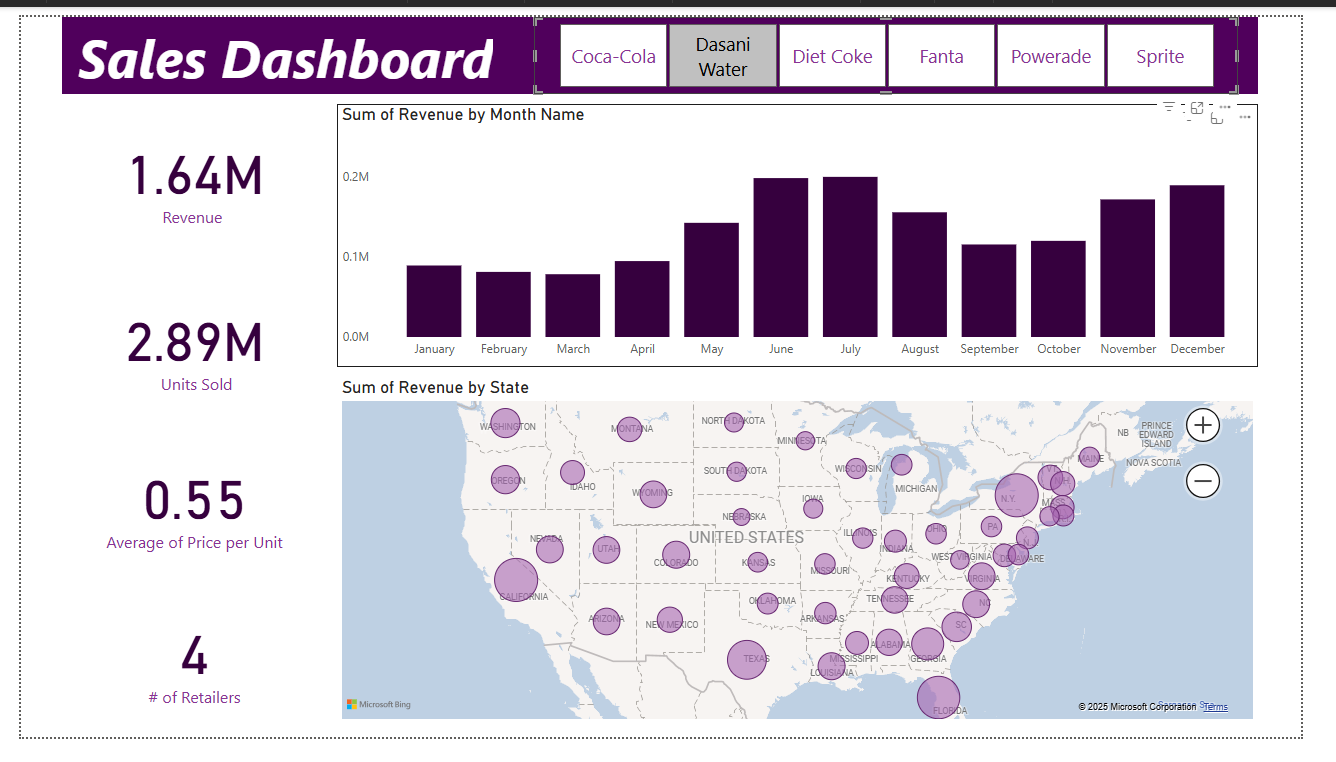

Layout of this report page (visuals, bound fields, positions):
{"tool":"powerbi","page":{"name":"Page 1","canvas":[1280,720],"ordinal":0},"visuals":[{"type":"shape","box":[41,0,1196,77],"z":0},{"type":"card","fields":{"Values":["Sum(Data.Revenue )"]},"box":[31,87,285,148],"z":1},{"type":"card","fields":{"Values":["Avg(Data.Price per Unit)"]},"box":[31,420.3,285,132],"z":2},{"type":"card","fields":{"Values":["Sum(Data.Units Sold)"]},"box":[31,257.7,285,140],"z":3},{"type":"columnChart","fields":{"Y":["Sum(Data.Revenue )"],"Category":["Data.Month Name"]},"box":[316,87,921,263],"z":4},{"type":"map","fields":{"Category":["Data.State"],"Size":["Sum(Data.Revenue )"]},"box":[316,360,921,347],"z":5},{"type":"slicer","fields":{"Values":["Data.Beverage Brand"]},"box":[513,0,704,77],"z":6},{"type":"card","fields":{"Values":["Count(Data.Retailer)"]},"box":[31,575,285,132],"z":7}]}

Visuals, with their boxes in screenshot pixels (x1, y1, x2, y2), scaled from the page's 1280x720 canvas onto the 1336x762 screenshot:
shape: x1=43, y1=0, x2=1291, y2=81
card - Sum(Data.Revenue ): x1=32, y1=92, x2=330, y2=249
card - Avg(Data.Price per Unit): x1=32, y1=445, x2=330, y2=585
card - Sum(Data.Units Sold): x1=32, y1=273, x2=330, y2=421
columnChart - Sum(Data.Revenue ) x Data.Month Name: x1=330, y1=92, x2=1291, y2=370
map - Data.State x Sum(Data.Revenue ): x1=330, y1=381, x2=1291, y2=748
slicer - Data.Beverage Brand: x1=535, y1=0, x2=1270, y2=81
card - Count(Data.Retailer): x1=32, y1=609, x2=330, y2=748
